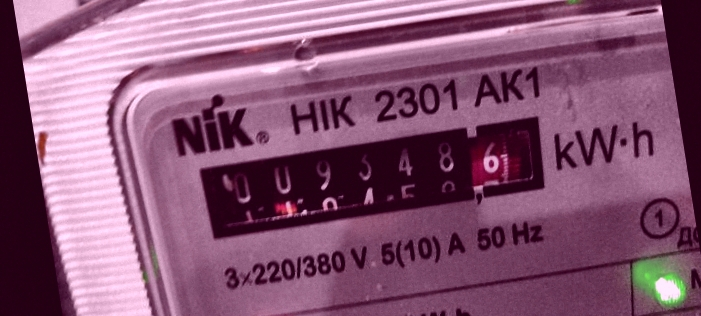0: (269, 159, 295, 198), (228, 168, 254, 205)
3: (350, 147, 376, 182)
4: (389, 141, 416, 181)
6: (477, 137, 504, 174)
8: (432, 136, 457, 173)
9: (311, 154, 334, 190)
screen: (174, 97, 570, 258)
